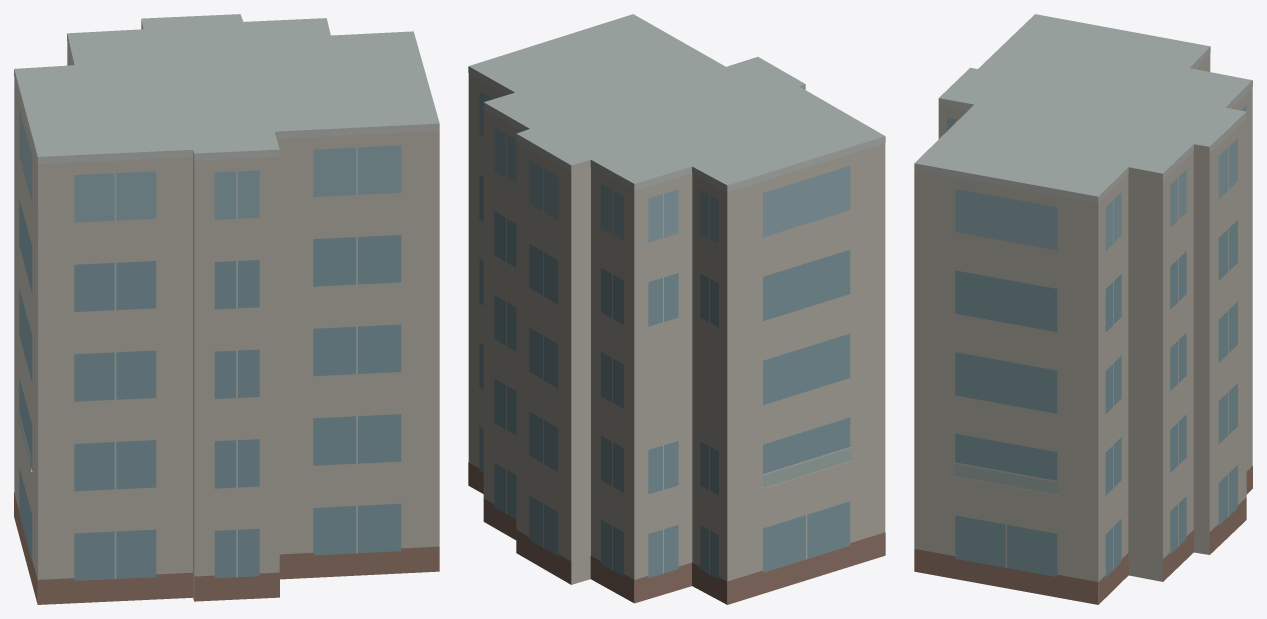
File: survey-upis-33015784.glb
3 renders of one model, left to right at view 1: azimuth 30°, elevation 25°; view 2: azimuth 150°, elevation 25°; view 3: azimuth 270°, elevation 25°, orthographic. The views are drawn at different scales.
Visible parts, largest first — view 1: survey-upis-33015784.tmp; view 2: survey-upis-33015784.tmp; view 3: survey-upis-33015784.tmp.
Boxes of the visible parts, left/top/right/bottom form: survey-upis-33015784.tmp: left=14, top=14, right=439, bottom=604; survey-upis-33015784.tmp: left=468, top=14, right=885, bottom=604; survey-upis-33015784.tmp: left=914, top=14, right=1252, bottom=604.
Bounding box in the file's own units: 14.3 × 14.9 × 11.2.
